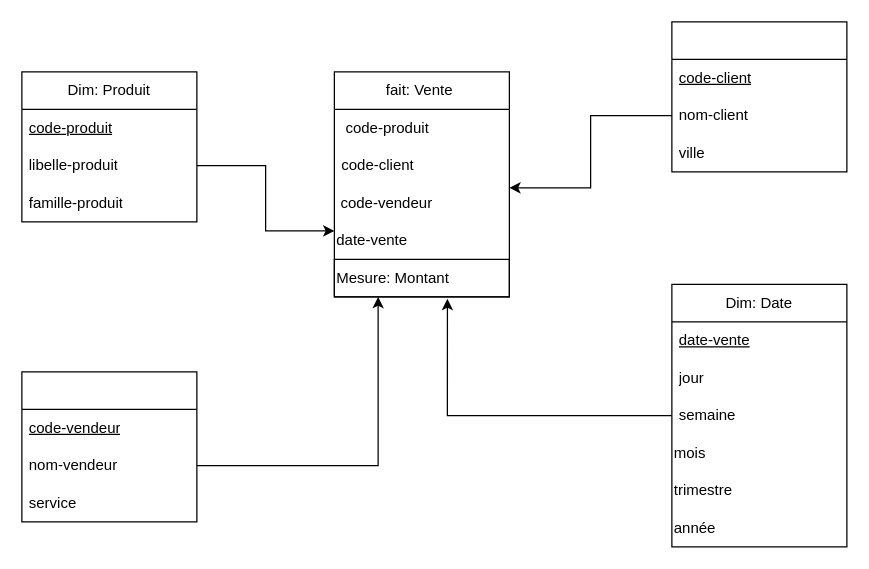
Some shapes in this 869 by 569 pixel diagram are drawn without their labels. The box of each missing label's shape, as (x1, y1, x2, y2) in pixels:
dim: Client: (671, 21, 847, 172)
Dim: Vendeur: (21, 371, 197, 522)
